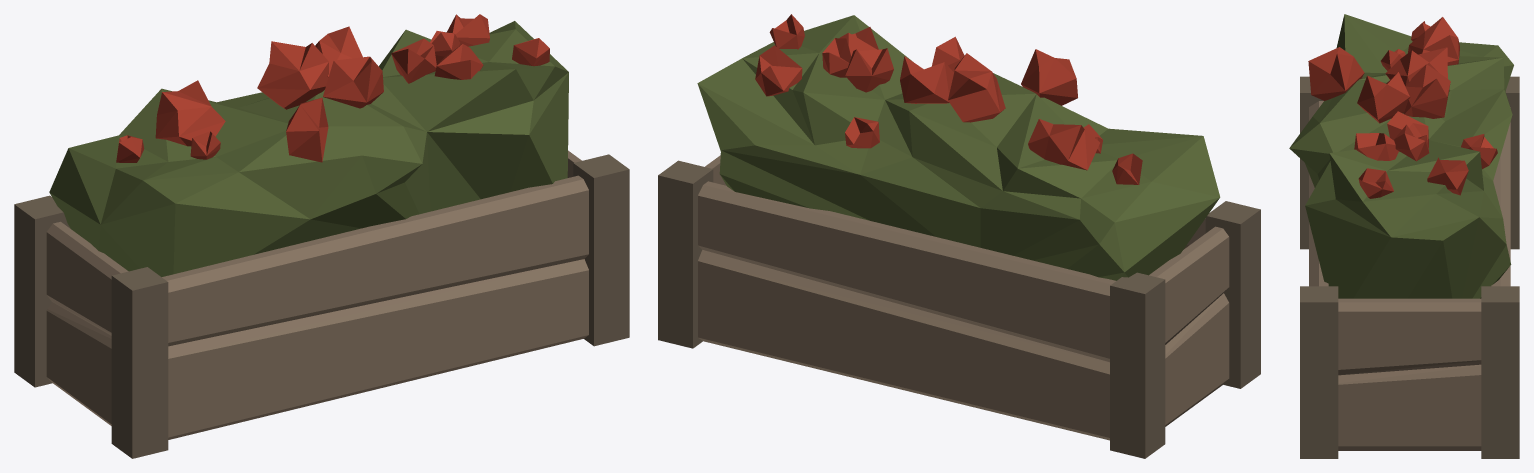
Rendered from SM_Prop_Planter_01.glb.
3 views of the same model, side by side, from view 1: azimuth 30°, elevation 25°; view 2: azimuth 150°, elevation 25°; view 3: azimuth 270°, elevation 25° (orthographic). The views are drawn at different scales.
Visible parts, largest first — view 1: SM_Prop_Planter_01_part00; view 2: SM_Prop_Planter_01_part00; view 3: SM_Prop_Planter_01_part00.
Part boxes in pixels (bbox=[...]): SM_Prop_Planter_01_part00: bbox=[14, 14, 629, 458]; SM_Prop_Planter_01_part00: bbox=[658, 14, 1260, 458]; SM_Prop_Planter_01_part00: bbox=[1289, 14, 1519, 458].
Bounding box in the file's own units: 1.41 × 0.8478 × 0.6071.
Materials: 1 (1 with a texture image).
